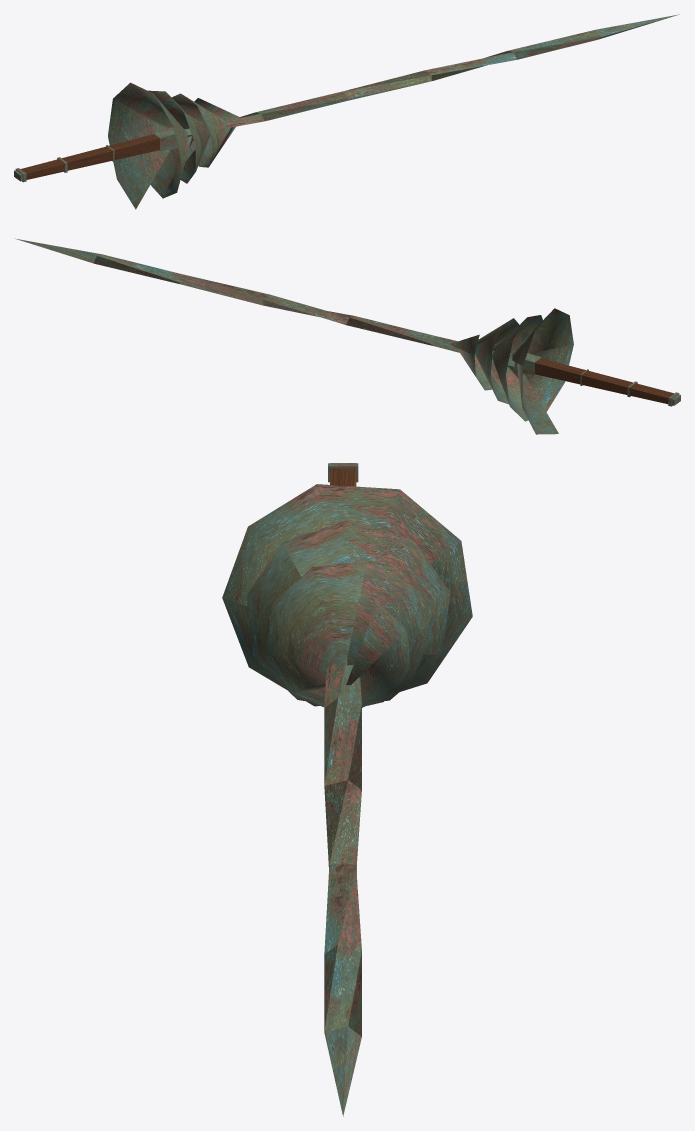
The model's file is sword.fbx.
The picture shows the model from 3 angles, top to bottom: view 1: azimuth 30°, elevation 25°; view 2: azimuth 150°, elevation 25°; view 3: azimuth 270°, elevation 25°; orthographic projection. The views are drawn at different scales.
Visible parts, largest first — view 1: Crossguard, Blade, Handle; view 2: Crossguard, Blade, Handle; view 3: Crossguard, Blade.
Boxes of the visible parts, bbox=[...] form: Crossguard: bbox=[108, 82, 240, 209]; Blade: bbox=[184, 14, 679, 139]; Handle: bbox=[14, 127, 177, 182]; Crossguard: bbox=[451, 308, 573, 434]; Blade: bbox=[15, 238, 514, 366]; Handle: bbox=[514, 353, 680, 406]; Crossguard: bbox=[222, 484, 472, 707]; Blade: bbox=[324, 658, 361, 1116].
Bounding box in the file's own units: 12216 × 1998 × 2082.
Materials: 4 (4 with a texture image).
